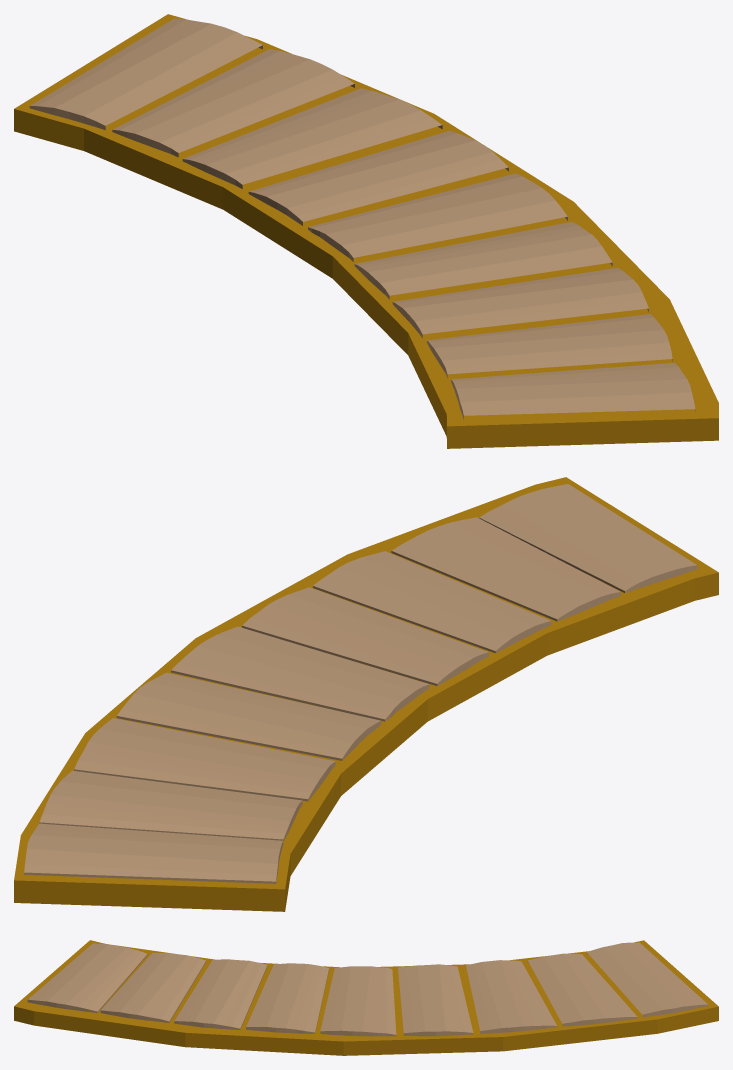
The model's file is 2-circle-bitkisiz.fbx.
The picture shows the model from 3 angles, top to bottom: view 1: azimuth 30°, elevation 25°; view 2: azimuth 150°, elevation 25°; view 3: azimuth 270°, elevation 25°; orthographic projection. The views are drawn at different scales.
Parts seen in each view (by area): view 1: Cylinder.050; view 2: Cylinder.050; view 3: Cylinder.050.
Boxes of the visible parts, box(x1,y1,x2,y2) form: Cylinder.050: box(14, 14, 718, 448); Cylinder.050: box(14, 477, 718, 911); Cylinder.050: box(14, 940, 718, 1055).
Size of the model in its own units: 1513 by 133 by 4443.
